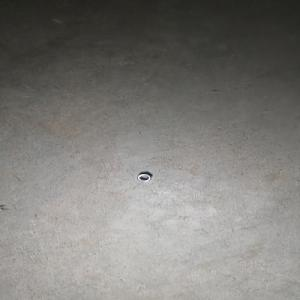Nut: (136, 172, 152, 182)
